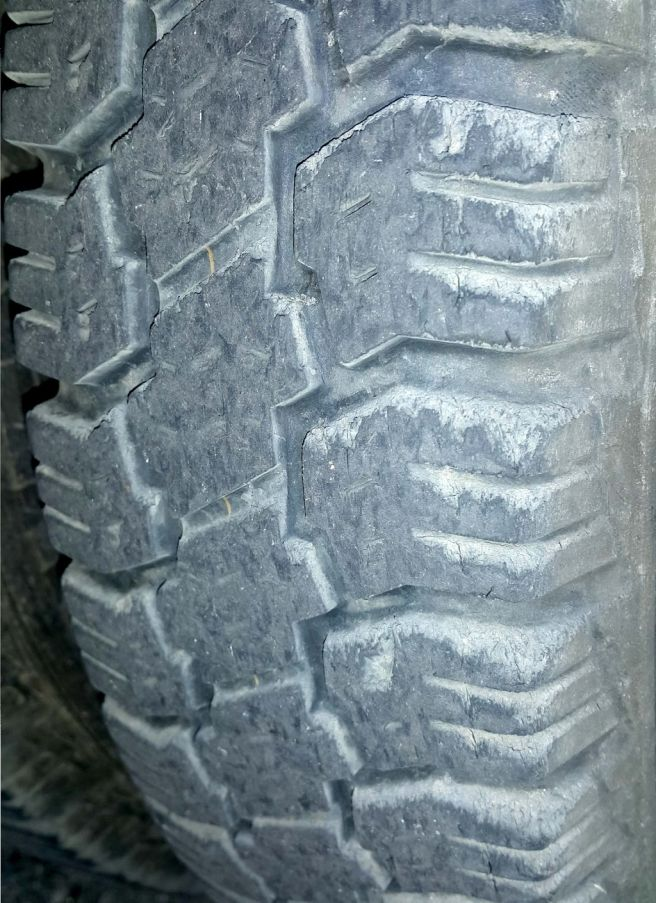bad_condition: (1, 1, 638, 899)
